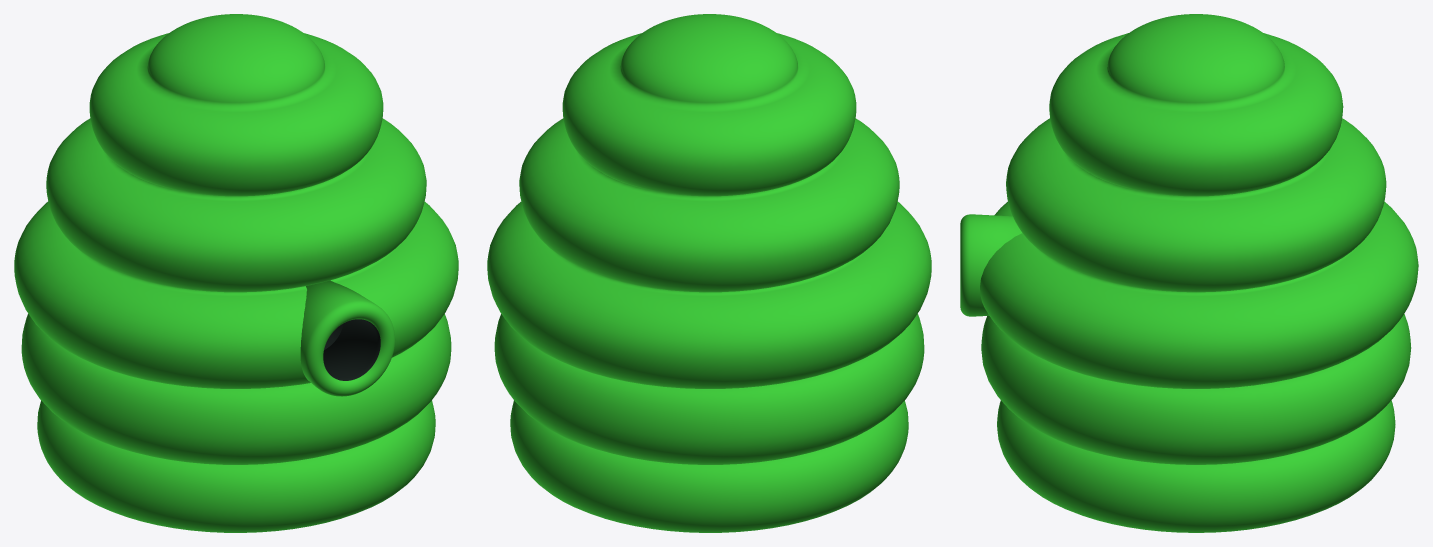
File: Small_Hive_Green.fbx
3 renders of one model, left to right at view 1: azimuth 30°, elevation 25°; view 2: azimuth 150°, elevation 25°; view 3: azimuth 270°, elevation 25°, orthographic.
Parts seen in each view (by area): view 1: Small_Hive_Green_Body, Small_Hive_Green_Entrance_Collar; view 2: Small_Hive_Green_Body; view 3: Small_Hive_Green_Body, Small_Hive_Green_Entrance_Collar.
Boxes of the visible parts, x1=… form: Small_Hive_Green_Body: x1=14, y1=14, x2=458, y2=532; Small_Hive_Green_Entrance_Collar: x1=300, y1=280, x2=395, y2=396; Small_Hive_Green_Body: x1=487, y1=14, x2=931, y2=532; Small_Hive_Green_Body: x1=980, y1=14, x2=1418, y2=532; Small_Hive_Green_Entrance_Collar: x1=960, y1=214, x2=1021, y2=316.
Size of the model in its own units: 209 by 223 by 215.
